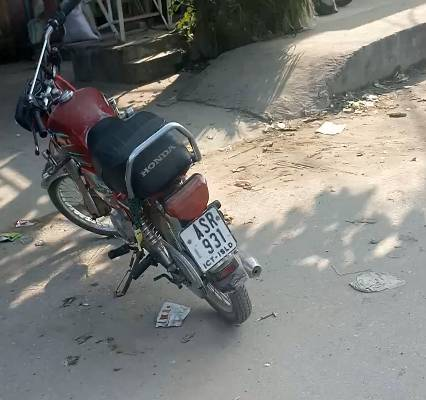number_plate: (186, 209, 243, 271)
